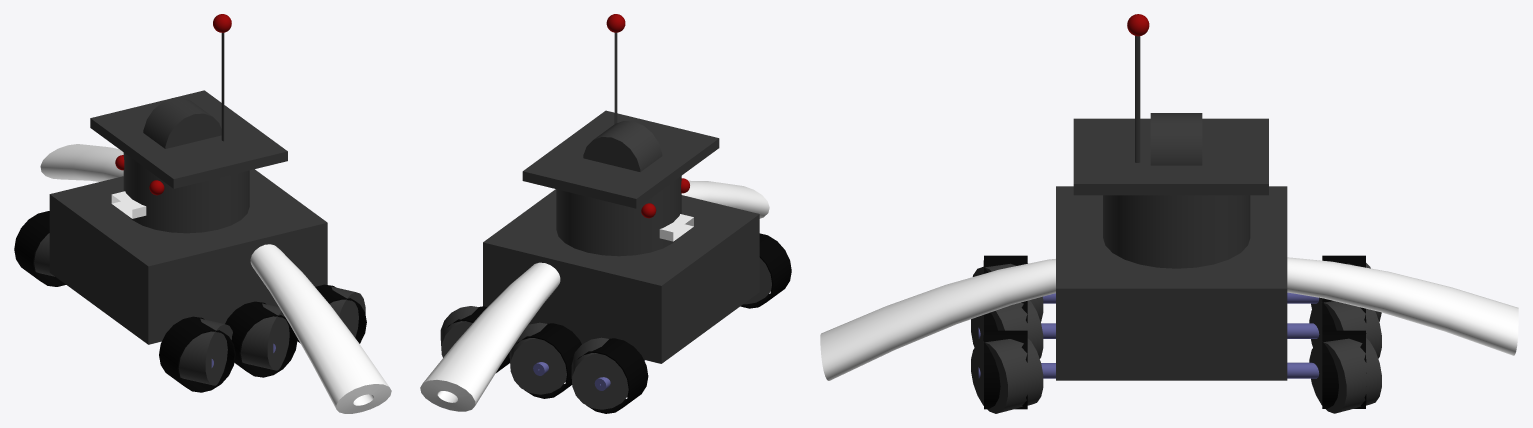
The model's file is robot.DAE.
3 views of the same model, side by side, from view 1: azimuth 30°, elevation 25°; view 2: azimuth 150°, elevation 25°; view 3: azimuth 270°, elevation 25° (orthographic). The views are drawn at different scales.
Parts seen in each view (by area): view 1: Box001, Tube002, Box002, Cone001, Tube001, Tube003, Cylinder006, Tube012, Cylinder004, Tube009, Tube010, Cylinder001 (+4 smaller); view 2: Box001, Box002, Tube003, Cone001, Cylinder005, Tube001, Cylinder003, Tube010, Tube002, Tube012, Tube007, Cylinder002 (+3 smaller); view 3: Box001, Box002, Tube002, Tube003, Cone001, Cylinder001, Cylinder002, Tube001, Cylinder003, Cylinder004, Tube004, Tube006 (+3 smaller).
Part boxes in pixels (<box>): Box001: <box>49,169,327,344</box>; Tube002: <box>250,244,391,413</box>; Box002: <box>90,90,287,188</box>; Cone001: <box>123,152,249,233</box>; Tube001: <box>143,97,221,148</box>; Tube003: <box>40,144,123,181</box>; Cylinder006: <box>178,318,232,385</box>; Tube012: <box>159,316,235,392</box>; Cylinder004: <box>240,303,289,370</box>; Tube009: <box>225,301,297,377</box>; Tube010: <box>14,211,65,286</box>; Cylinder001: <box>329,286,365,337</box>; Box001: <box>483,189,759,363</box>; Box002: <box>522,110,719,208</box>; Tube003: <box>420,262,560,411</box>; Cone001: <box>556,176,681,256</box>; Cylinder005: <box>571,337,628,409</box>; Tube001: <box>583,121,662,171</box>; Cylinder003: <box>509,322,566,394</box>; Tube010: <box>577,338,648,413</box>; Tube002: <box>681,180,769,218</box>; Tube012: <box>740,233,791,308</box>; Tube007: <box>516,323,581,398</box>; Cylinder002: <box>440,306,478,357</box>; Box001: <box>1056,186,1287,380</box>; Box002: <box>1073,118,1268,195</box>; Tube002: <box>820,259,1055,380</box>; Tube003: <box>1287,257,1518,355</box>; Cone001: <box>1103,195,1250,268</box>; Cylinder001: <box>971,338,1043,413</box>; Cylinder002: <box>1309,338,1381,413</box>; Tube001: <box>1150,113,1202,165</box>; Cylinder003: <box>1309,301,1381,358</box>; Cylinder004: <box>971,300,1043,358</box>; Tube004: <box>983,330,1027,409</box>; Tube006: <box>1322,330,1366,408</box>.
Bounding box in the file's own units: 44.81 × 66.54 × 116.
